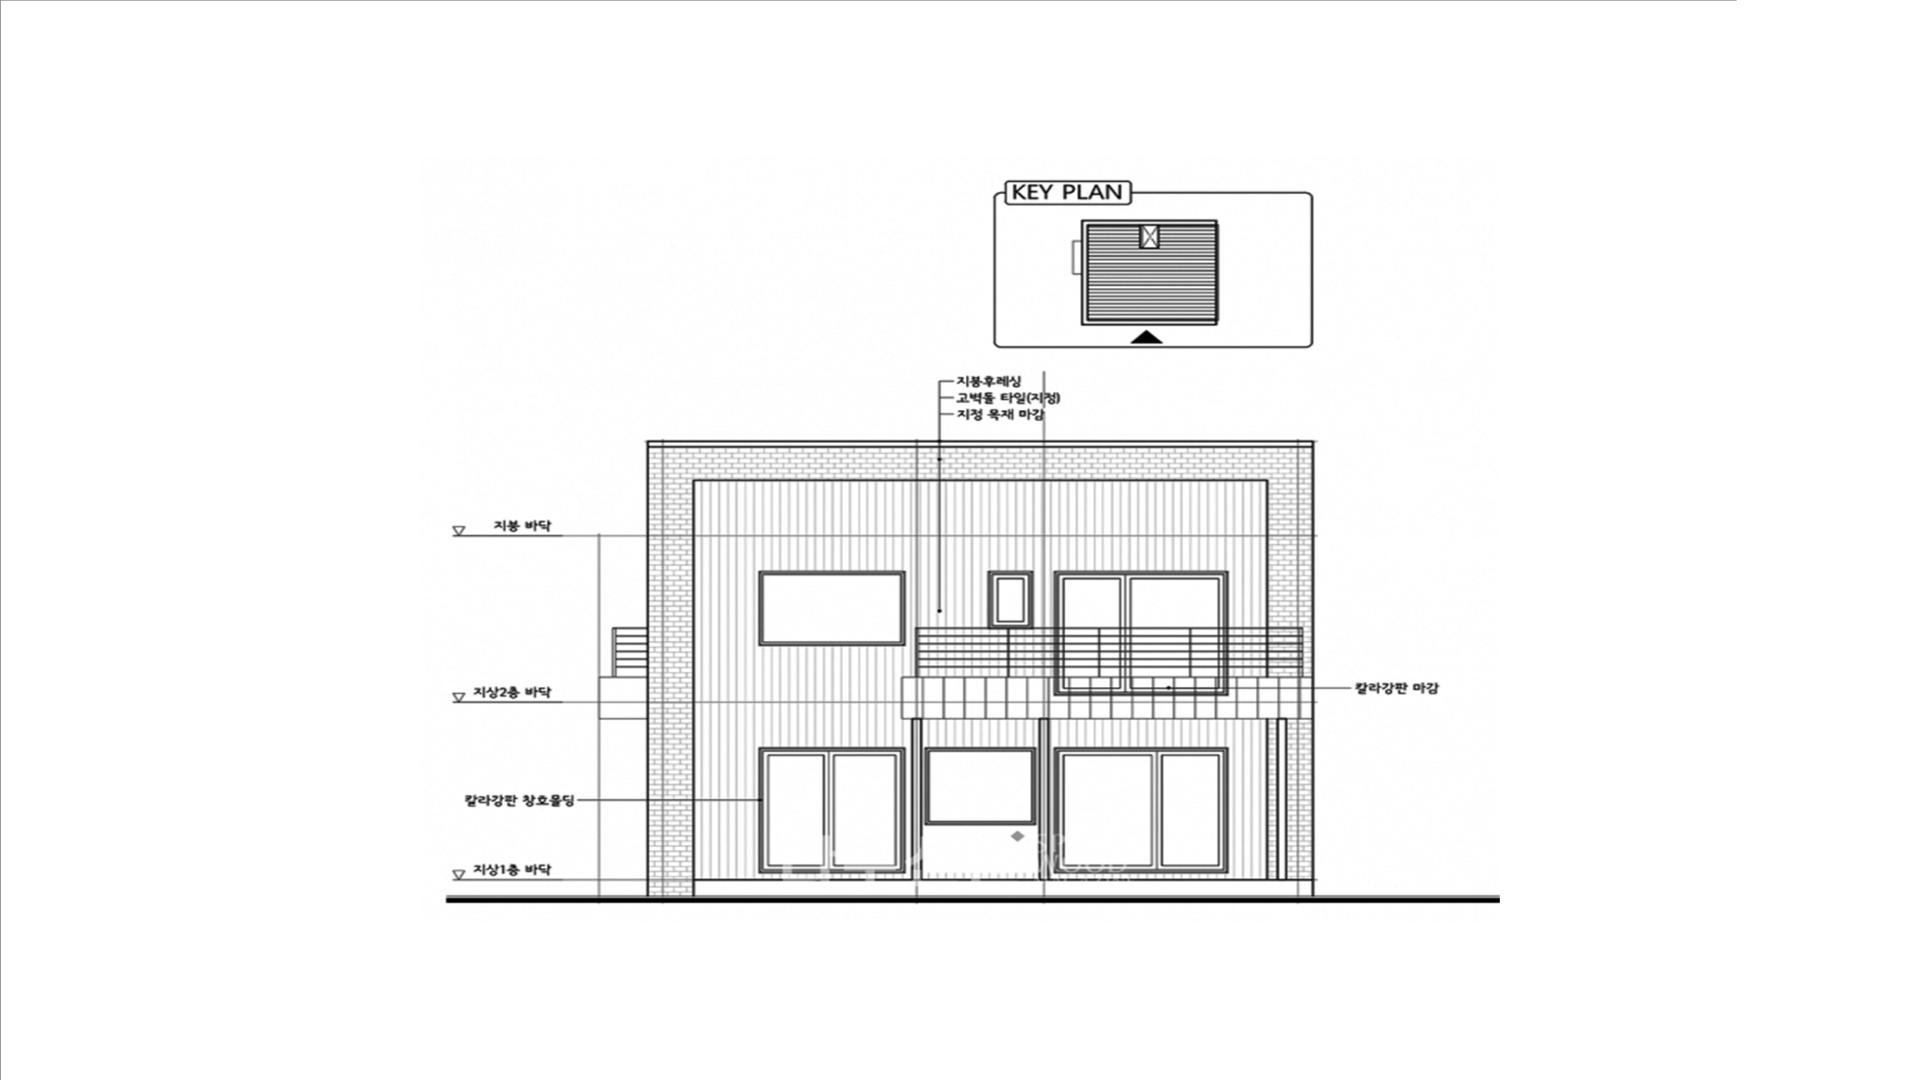wall: (646, 440, 1315, 903)
window: (1054, 571, 1229, 696), (1054, 748, 1229, 873), (758, 748, 905, 873), (758, 571, 906, 646), (924, 748, 1035, 825), (988, 571, 1034, 628)
